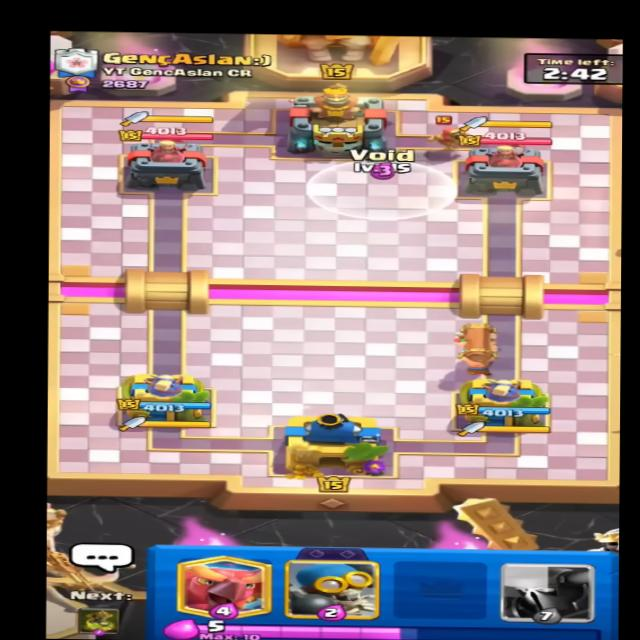Wizard: (426, 115, 479, 155)
